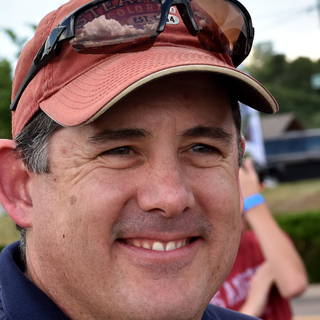eye: (94, 139, 144, 164), (178, 138, 225, 163)
